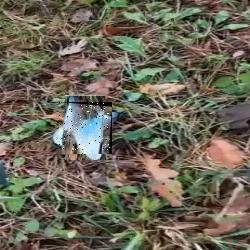restaffald: (59, 102, 112, 154)
